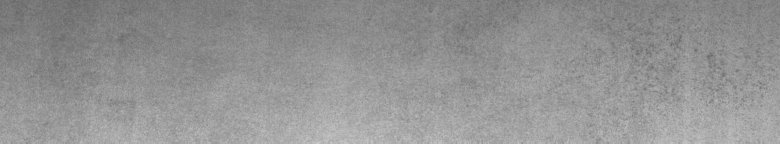ib: (631, 16, 751, 103)
